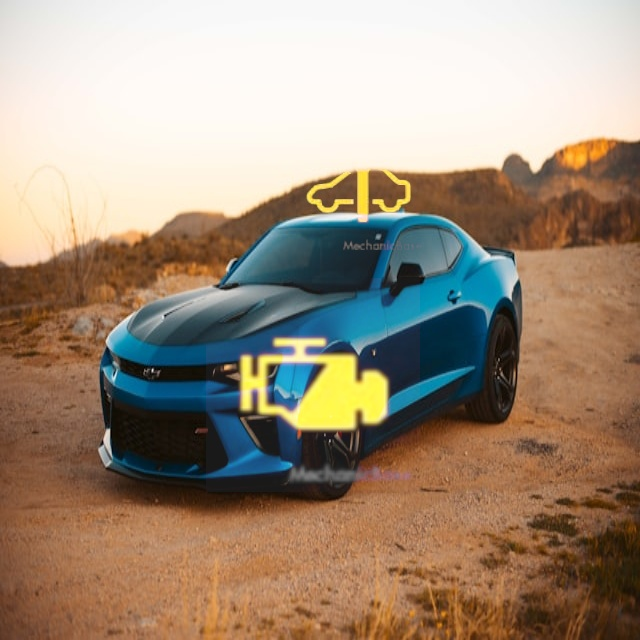symbol: (206, 278, 420, 492), (289, 119, 427, 257)
